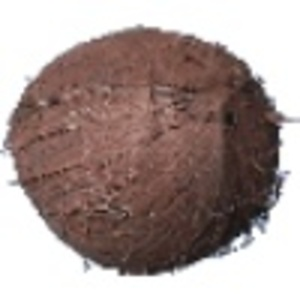coco: (1, 27, 289, 276)
